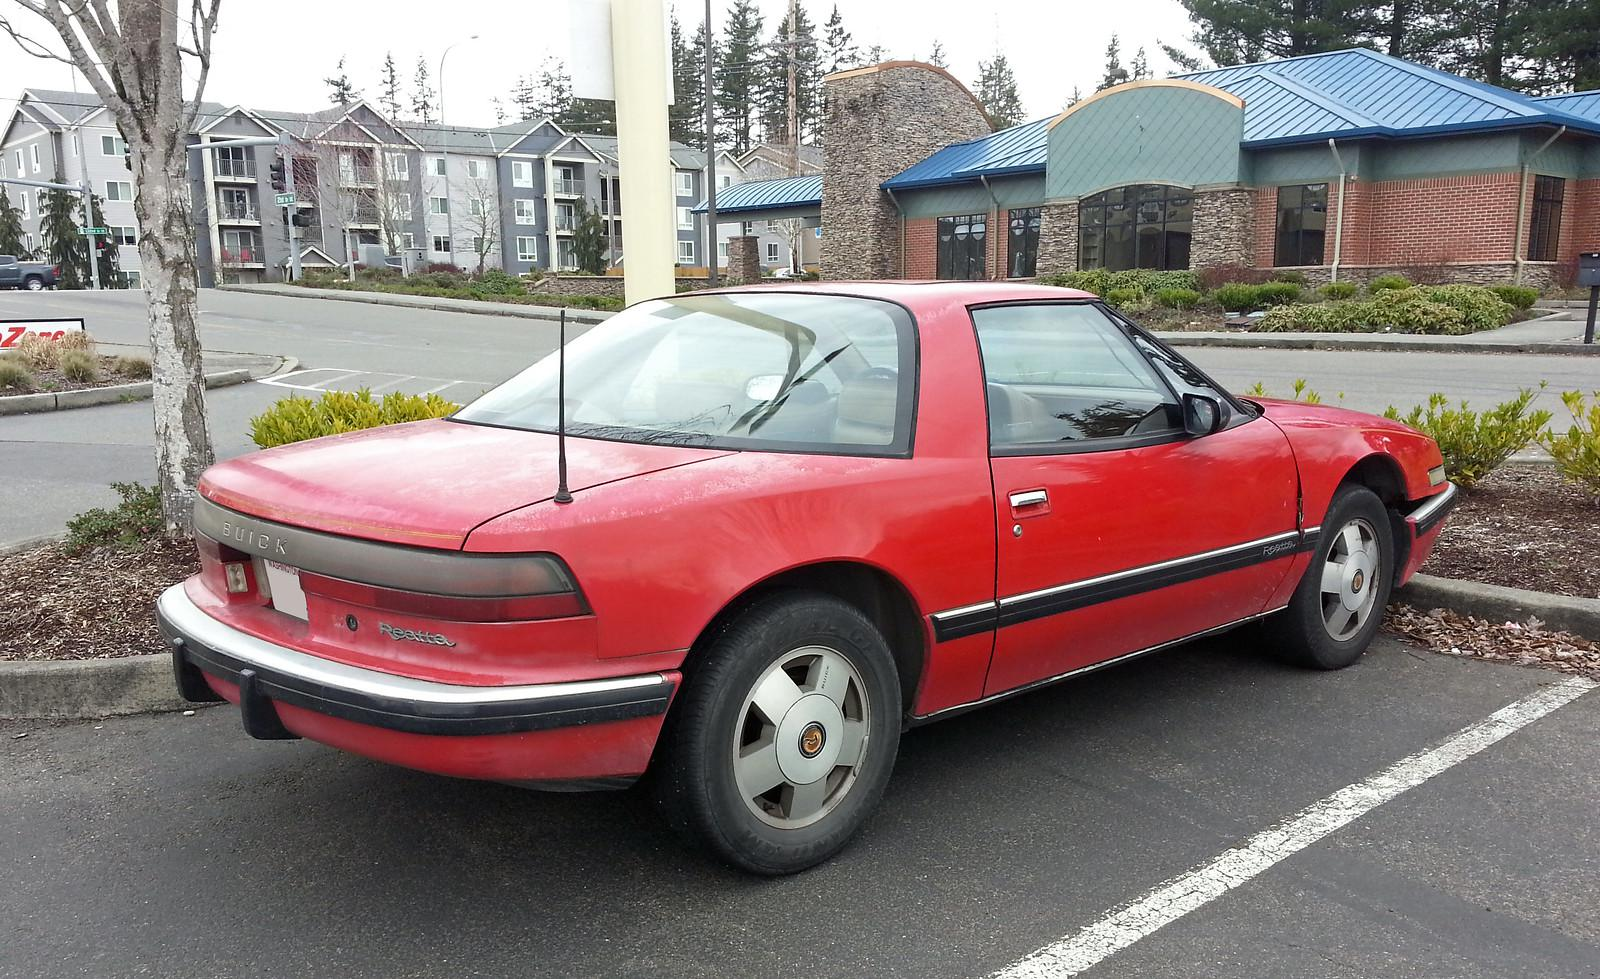quaterpanel-dent: (565, 446, 1010, 619)
